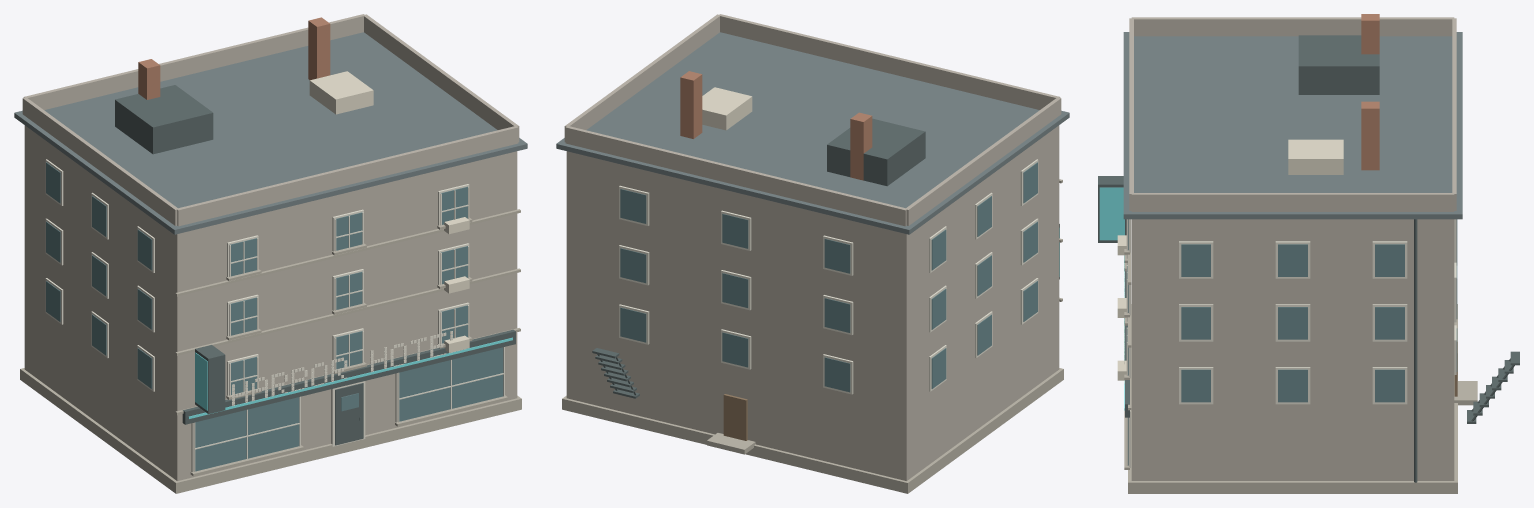
3 views of the same model, side by side, from view 1: azimuth 30°, elevation 25°; view 2: azimuth 150°, elevation 25°; view 3: azimuth 270°, elevation 25° (orthographic). The views are drawn at different scales.
Size of the model in its own units: 18.7 by 16.44 by 18.3.
